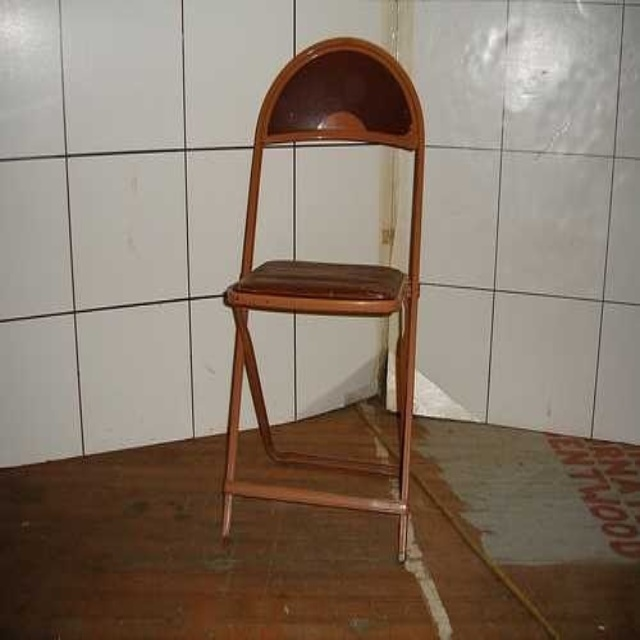obstacle: (221, 38, 424, 560)
